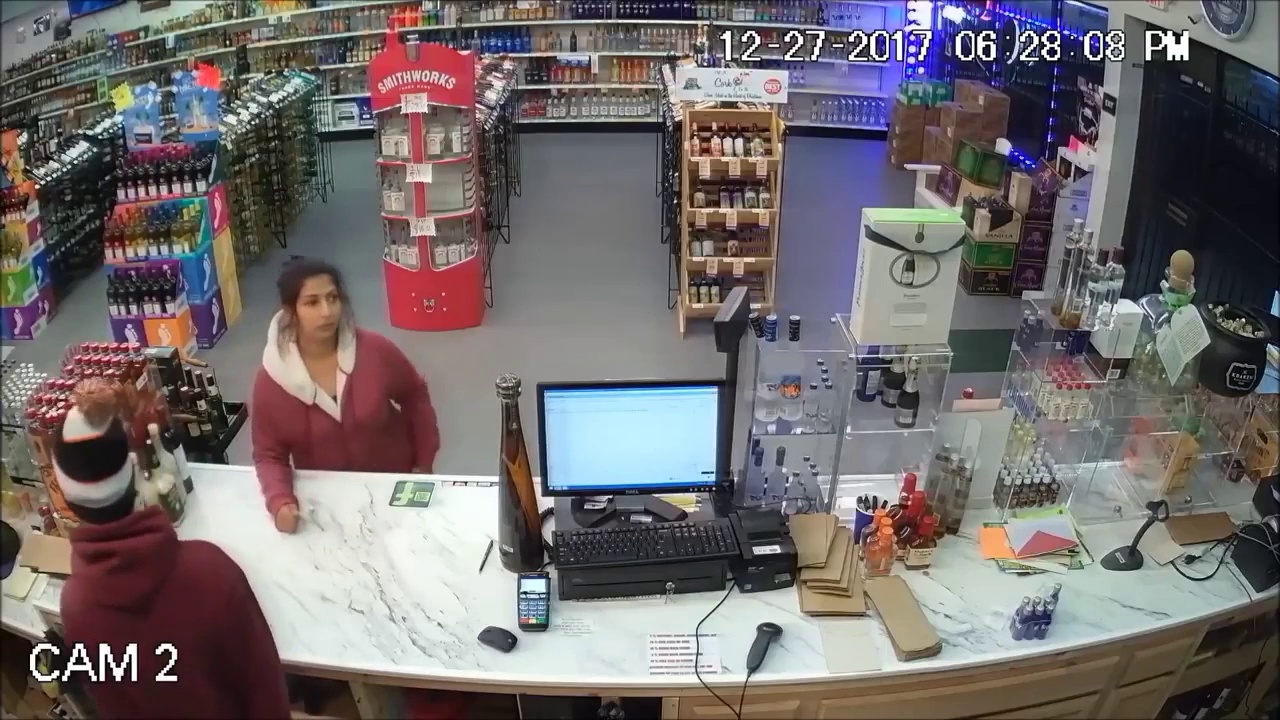face: (283, 278, 346, 341)
